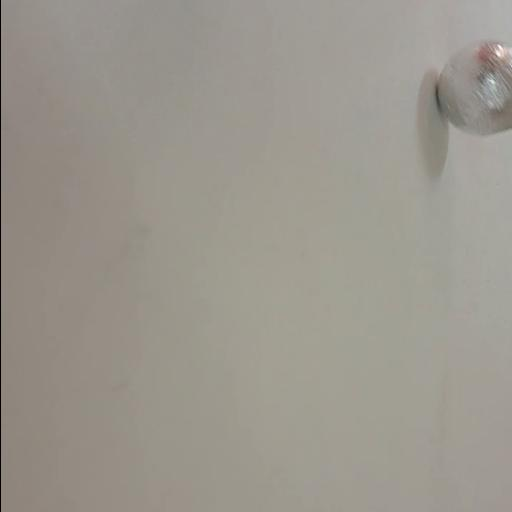alive: (437, 40, 512, 136)
